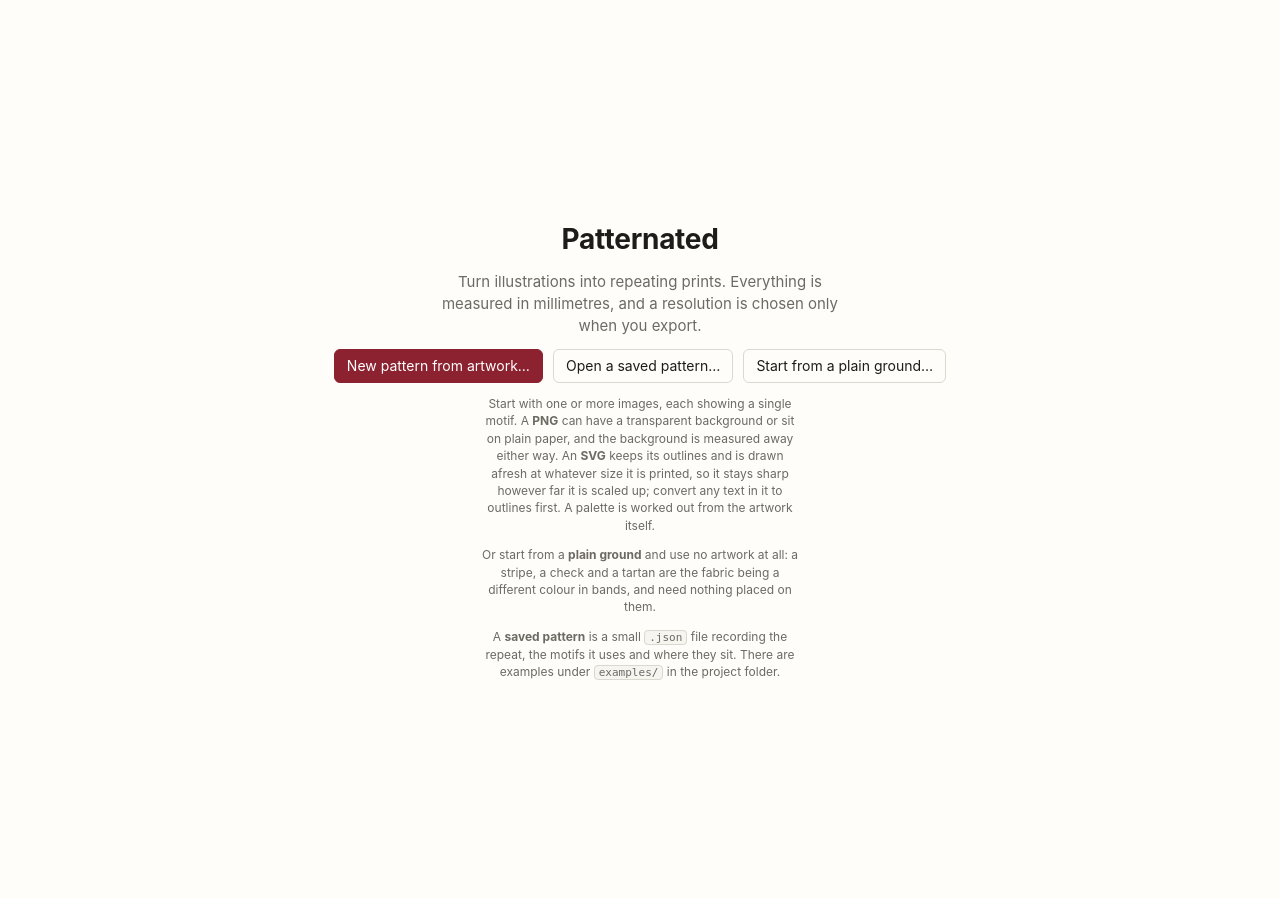
Test case: the start screen › starts a pattern with no artwork
The width and height of the screenshot is (1280, 898).
Click the button with test id "new-plain" at {"x": 845, "y": 366}, box [743,349,946,383]
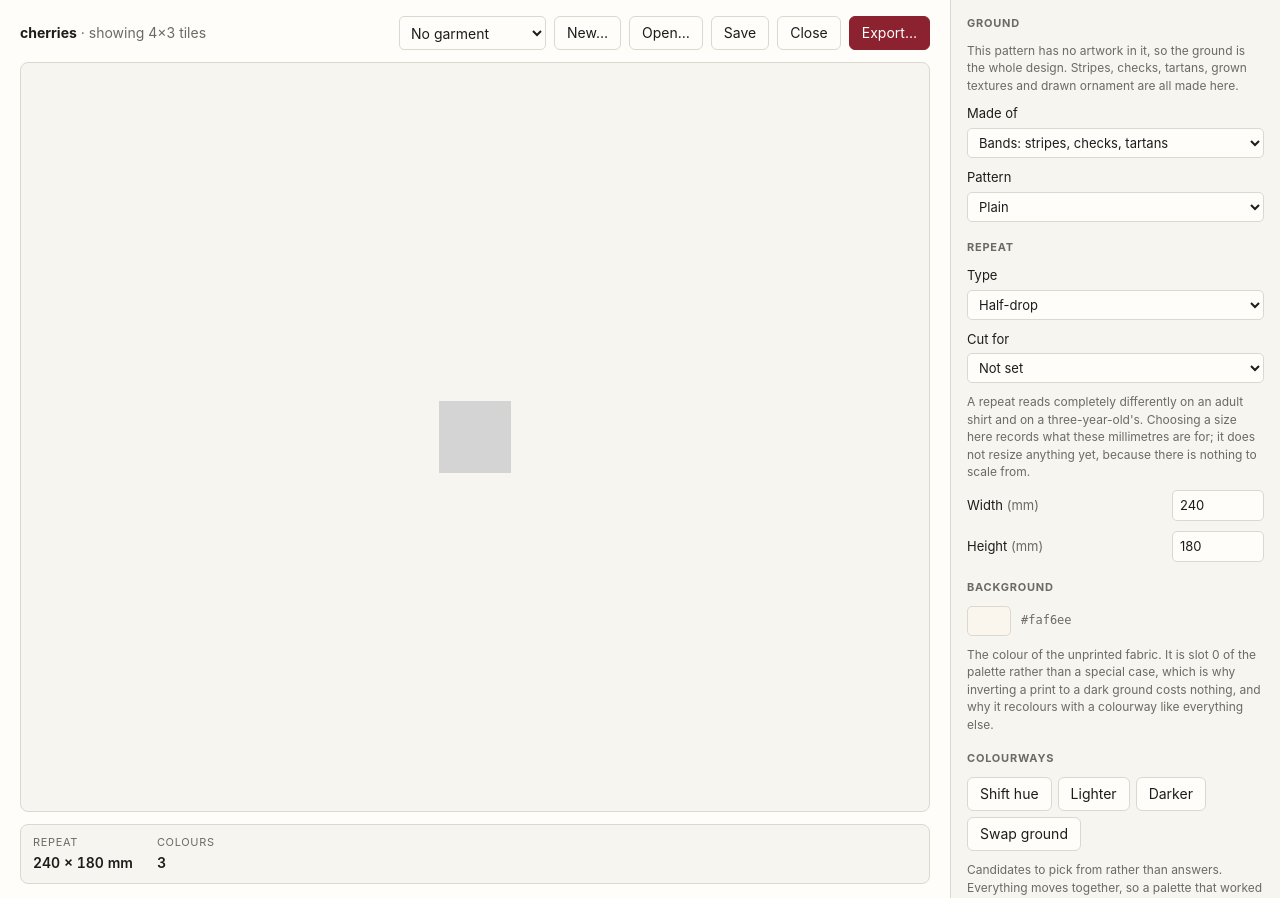
Check: the button with test id "close" is shown, box [777,16,841,50]
Check: the dropdown with test id "ground-preset" is shown, box [967,192,1264,222]
Check: the text "no artwork in it" is shown, box [967,43,1247,93]
